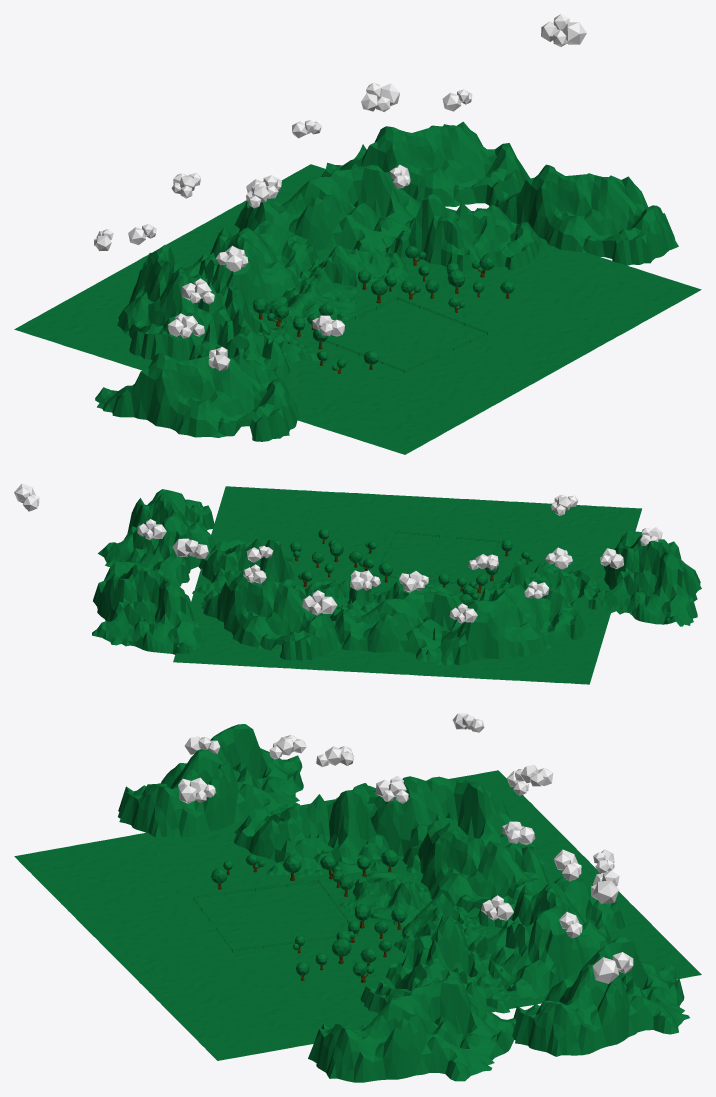
The model's file is big_env.FBX.
The picture shows the model from 3 angles, top to bottom: view 1: azimuth 30°, elevation 25°; view 2: azimuth 150°, elevation 25°; view 3: azimuth 270°, elevation 25°; orthographic projection. The views are drawn at different scales.
Parts seen in each view (by area): view 1: ground_01, terrain008, terrain009, terrain005, terrain007, terrain003, terrain006, terrain002, terrain004, terrain001, terrain, cloud_010 (+1 smaller); view 2: ground_01, terrain006, terrain007, terrain005, terrain008, terrain002, terrain009, terrain003, terrain004, terrain001, terrain, cloud_006 (+12 smaller); view 3: ground_01, terrain009, terrain007, terrain008, terrain005, terrain004, terrain002, terrain006, terrain003, terrain, terrain001, cloud_010 (+9 smaller).
Part boxes in pixels (bbox=[...]): ground_01: bbox=[14, 164, 701, 454]; terrain008: bbox=[95, 353, 302, 441]; terrain009: bbox=[494, 164, 678, 265]; terrain005: bbox=[235, 165, 420, 252]; terrain007: bbox=[321, 121, 530, 206]; terrain003: bbox=[382, 194, 542, 271]; terrain006: bbox=[117, 244, 251, 360]; terrain002: bbox=[179, 220, 318, 306]; terrain004: bbox=[189, 286, 319, 384]; terrain001: bbox=[299, 245, 408, 287]; terrain: bbox=[263, 270, 358, 324]; cloud_010: bbox=[541, 14, 586, 46]; ground_01: bbox=[173, 486, 641, 684]; terrain006: bbox=[426, 581, 585, 665]; terrain007: bbox=[92, 562, 202, 654]; terrain005: bbox=[201, 570, 341, 660]; terrain008: bbox=[601, 531, 701, 626]; terrain002: bbox=[330, 591, 461, 661]; terrain009: bbox=[98, 489, 215, 586]; terrain003: bbox=[192, 538, 298, 594]; terrain004: bbox=[479, 560, 603, 611]; terrain001: bbox=[308, 579, 378, 616]; terrain: bbox=[372, 580, 460, 603]; cloud_006: bbox=[302, 590, 337, 615]; ground_01: bbox=[14, 770, 701, 1060]; terrain009: bbox=[308, 979, 516, 1082]; terrain007: bbox=[512, 937, 689, 1056]; terrain008: bbox=[118, 724, 303, 837]; terrain005: bbox=[467, 876, 624, 998]; terrain004: bbox=[234, 789, 393, 877]; terrain002: bbox=[402, 822, 548, 927]; terrain006: bbox=[353, 776, 544, 873]; terrain003: bbox=[360, 915, 511, 1013]; terrain: bbox=[337, 871, 431, 925]; terrain001: bbox=[394, 893, 491, 953]; cloud_010: bbox=[592, 952, 633, 983].
Bounding box in the file's own units: 5997 × 1149 × 5237.
